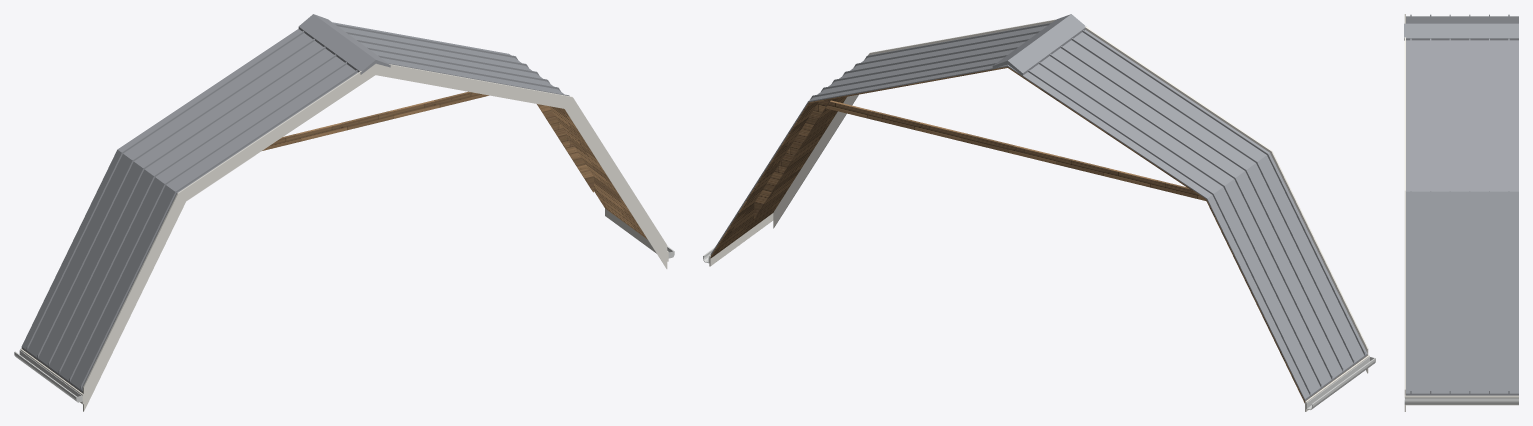
Rendered from barn_roof_end.glb.
3 renders of one model, left to right at view 1: azimuth 30°, elevation 25°; view 2: azimuth 150°, elevation 25°; view 3: azimuth 270°, elevation 25°, orthographic. The views are drawn at different scales.
Visible parts, largest first — view 1: barn_roof_end_metal, barn_roof_end_trim, barn_roof_end_planks, barn_roof_end_gutter; view 2: barn_roof_end_metal, barn_roof_end_planks, barn_roof_end_trim, barn_roof_end_gutter; view 3: barn_roof_end_metal, barn_roof_end_trim, barn_roof_end_gutter.
Boxes of the visible parts, x1,y1,x2,y2 form: barn_roof_end_metal: (21, 14, 569, 392); barn_roof_end_trim: (20, 63, 668, 411); barn_roof_end_planks: (22, 91, 647, 393); barn_roof_end_gutter: (14, 246, 674, 402); barn_roof_end_metal: (710, 14, 1367, 400); barn_roof_end_planks: (710, 66, 1367, 403); barn_roof_end_trim: (709, 19, 1369, 411); barn_roof_end_gutter: (703, 247, 1375, 409); barn_roof_end_metal: (1404, 14, 1518, 395); barn_roof_end_trim: (1404, 14, 1518, 411); barn_roof_end_gutter: (1404, 397, 1518, 404).
Size of the model in its own units: 12.92 by 5.8 by 2.34.
4 materials, 1 textured.
